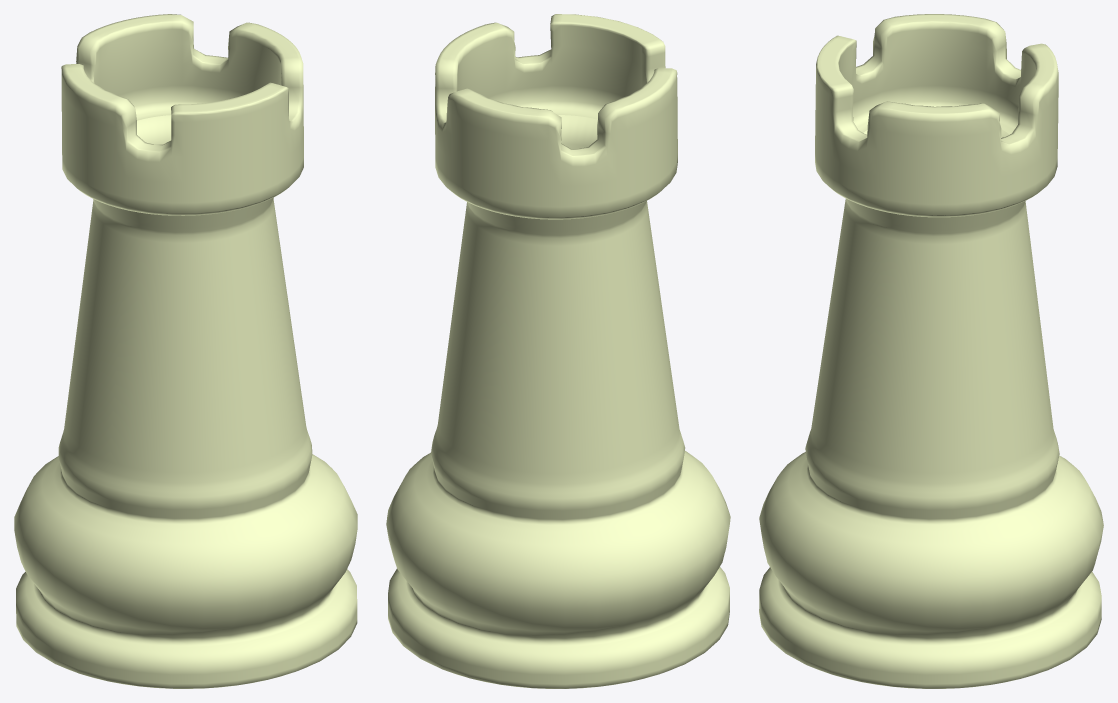
File: Rook.fbx
3 renders of one model, left to right at view 1: azimuth 30°, elevation 25°; view 2: azimuth 150°, elevation 25°; view 3: azimuth 270°, elevation 25°, orthographic.
Visible parts, largest first — view 1: Rook.002; view 2: Rook.002; view 3: Rook.002.
Boxes of the visible parts, box(x1,y1,x2,y2) form: Rook.002: box(14, 14, 357, 688); Rook.002: box(386, 14, 730, 688); Rook.002: box(759, 14, 1103, 688).
Bounding box in the file's own units: 3.11 × 5.54 × 3.11.
